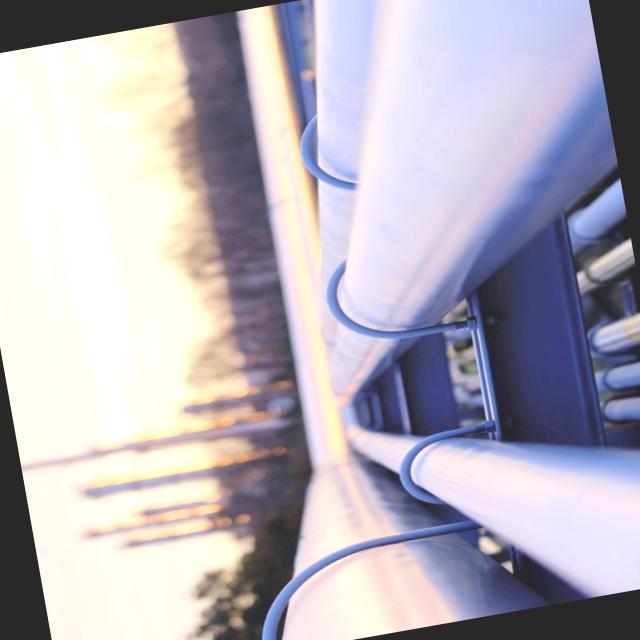gas: (238, 4, 549, 640), (333, 0, 616, 404), (337, 402, 640, 596), (312, 0, 377, 347)
